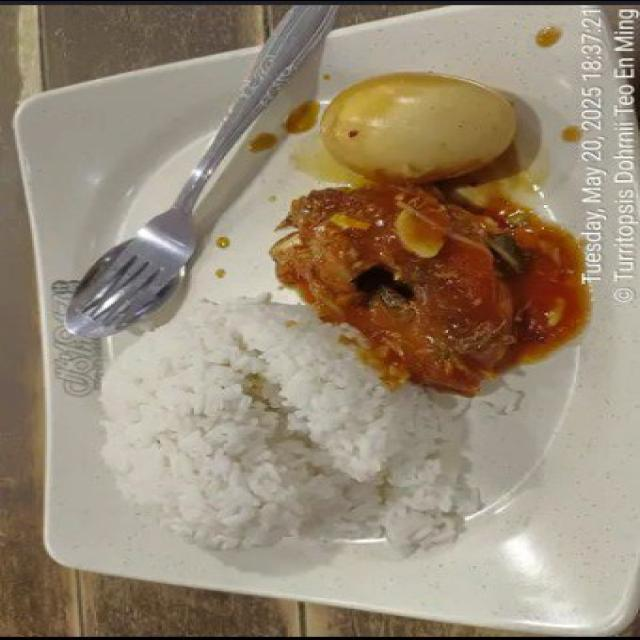Egg: (322, 74, 514, 182)
Fish: (271, 182, 516, 394)
Rice: (102, 297, 476, 551)
